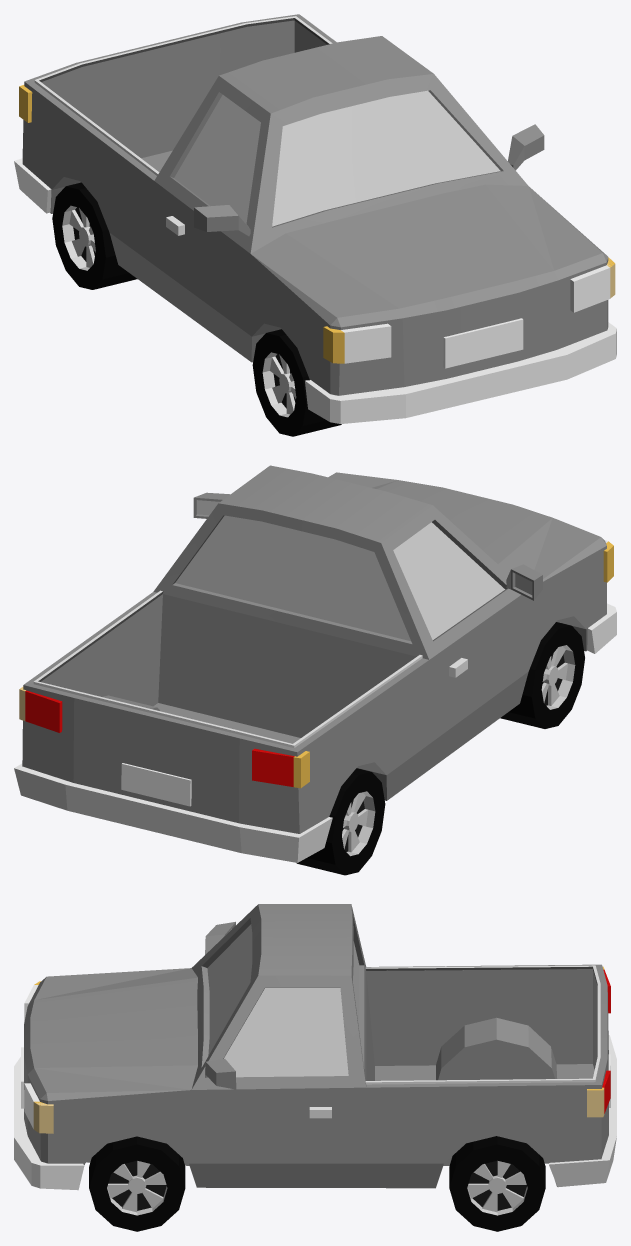
File: Car-04-B.fbx
The picture shows the model from 3 angles, top to bottom: view 1: azimuth 30°, elevation 25°; view 2: azimuth 150°, elevation 25°; view 3: azimuth 270°, elevation 25°; orthographic projection. The views are drawn at different scales.
Parts seen in each view (by area): view 1: Car-04, BR, FR, Headlight, Light-Right; view 2: Car-04, FR, BR, Break-Light, Light-Right; view 3: Car-04, BL, FL, Light-Left, Headlight.
Part boxes in pixels (bbox=[...]): Car-04: bbox=[14, 14, 616, 423]; BR: bbox=[52, 182, 137, 289]; FR: bbox=[252, 329, 341, 436]; Headlight: bbox=[341, 265, 610, 363]; Light-Right: bbox=[19, 85, 344, 363]; Car-04: bbox=[14, 465, 616, 862]; FR: bbox=[500, 622, 584, 728]; BR: bbox=[296, 768, 385, 875]; Break-Light: bbox=[25, 691, 293, 786]; Light-Right: bbox=[293, 541, 613, 788]; Car-04: bbox=[14, 904, 616, 1190]; BL: bbox=[449, 1136, 545, 1231]; FL: bbox=[89, 1136, 185, 1231]; Light-Left: bbox=[33, 1088, 604, 1133]; Headlight: bbox=[24, 985, 39, 1128].
Size of the model in its own units: 2.45 by 1.79 by 4.18.
